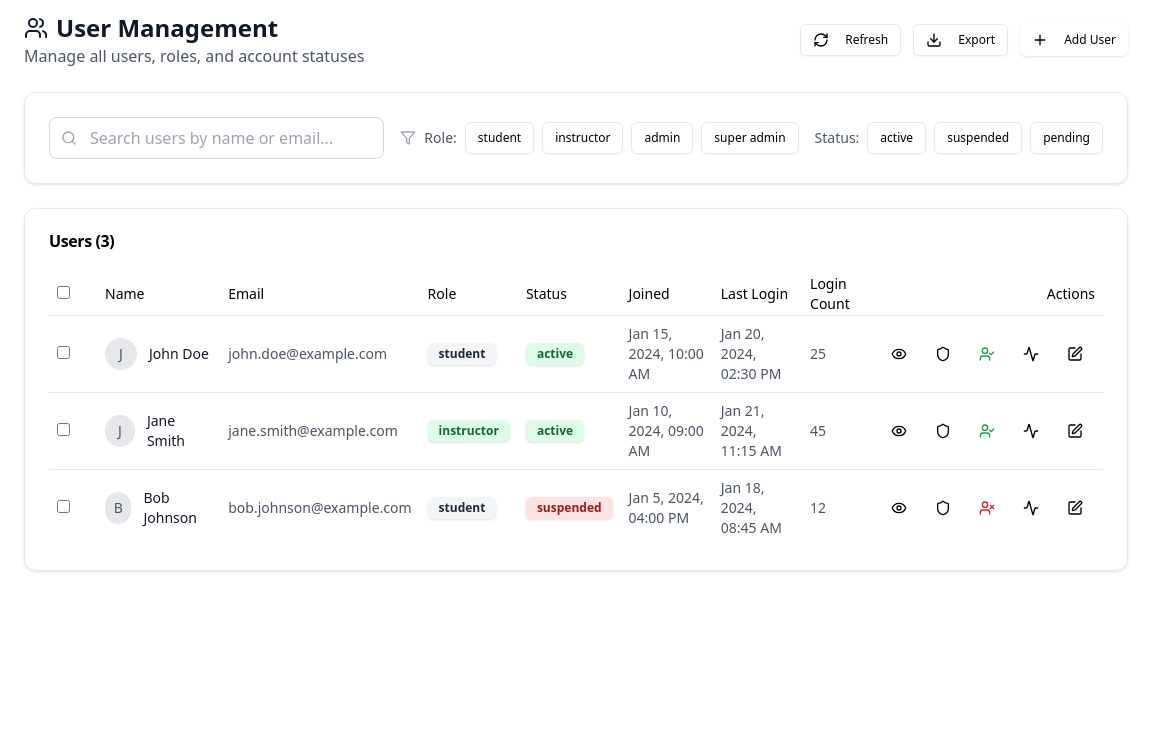
Test case: UserManagementPage Component › User Selection › should show bulk operations when users are selected
Expected: the text "John Doe" is shown, [149, 344, 209, 364]
Click the checkbox in the row of "John Doe" at (64, 352), box [57, 346, 70, 359]
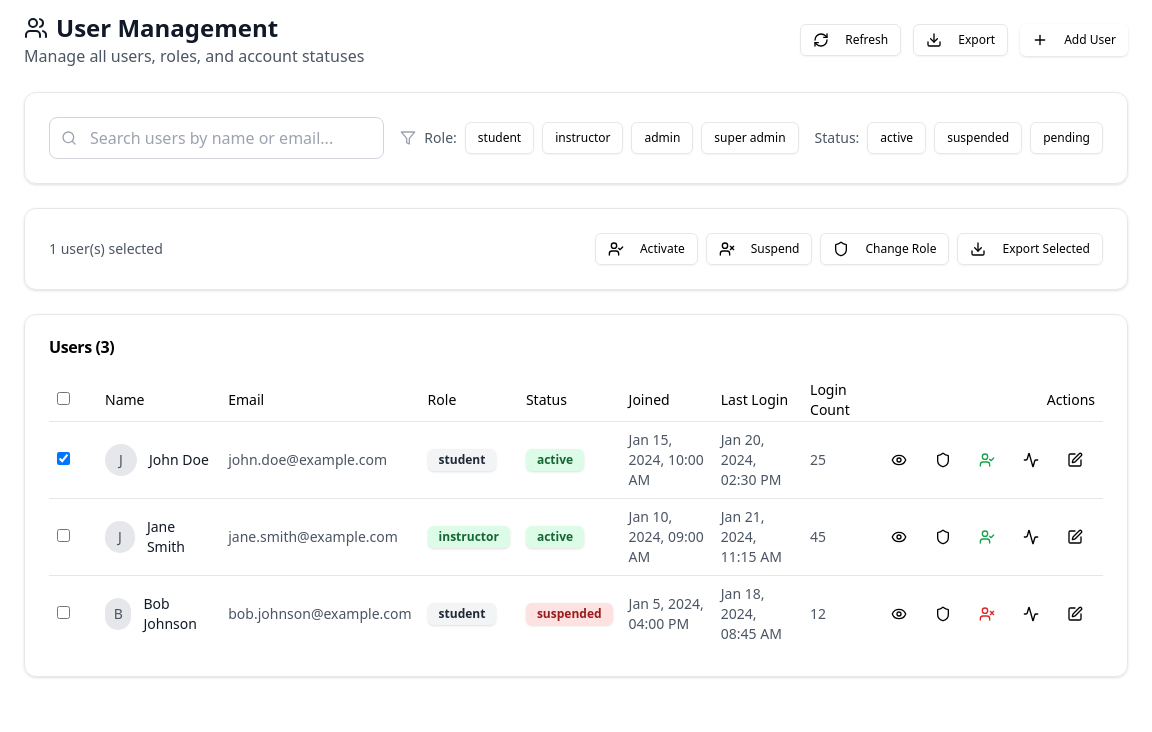
Now the text "1 user(s) selected" is shown, box [49, 239, 163, 259]
Now the button "Activate" is shown, box [595, 233, 698, 265]
Now the button "Suspend" is shown, box [706, 233, 812, 265]
